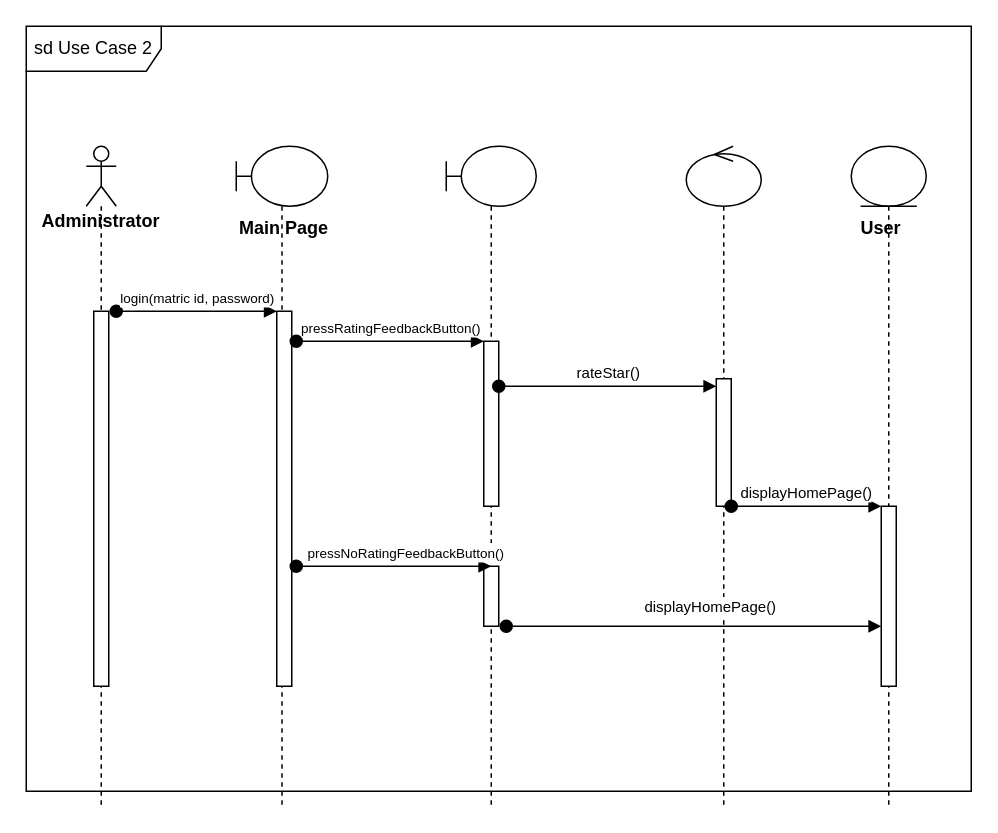
The diagram is 998 pixels wide and 833 high, and some of its shapes have lost their labels. The centre of each missing label's shape, as x and y in pixels:
"Rating & Feedback Controller" belongs at (x=723, y=475).
"Rating & Feedback Page" belongs at (x=490, y=475).
